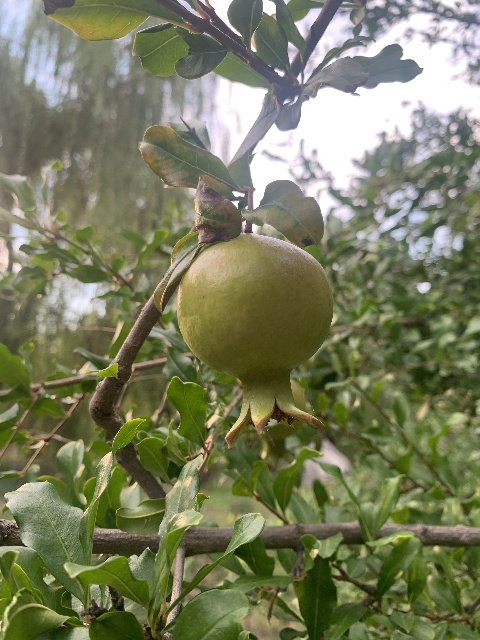mid-growth: (175, 233, 334, 446)
